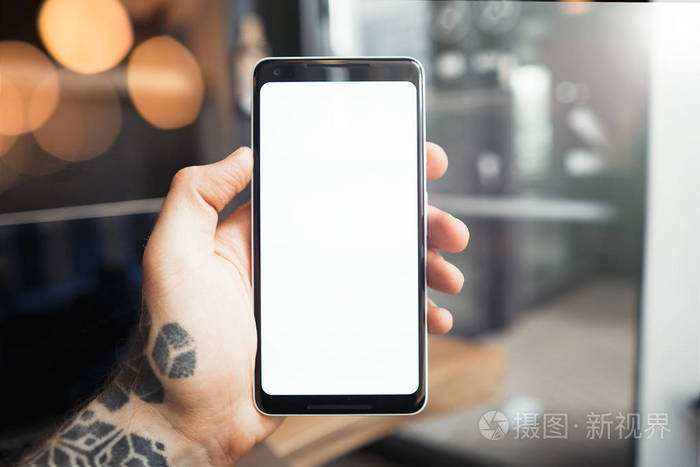phone: (149, 53, 472, 449)
